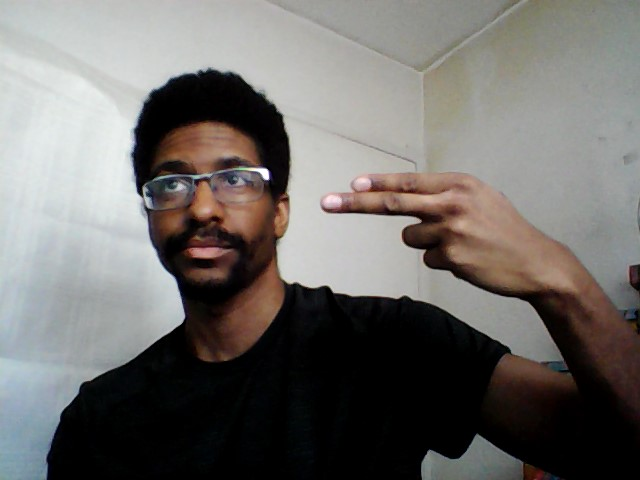h: (316, 168, 562, 301)
